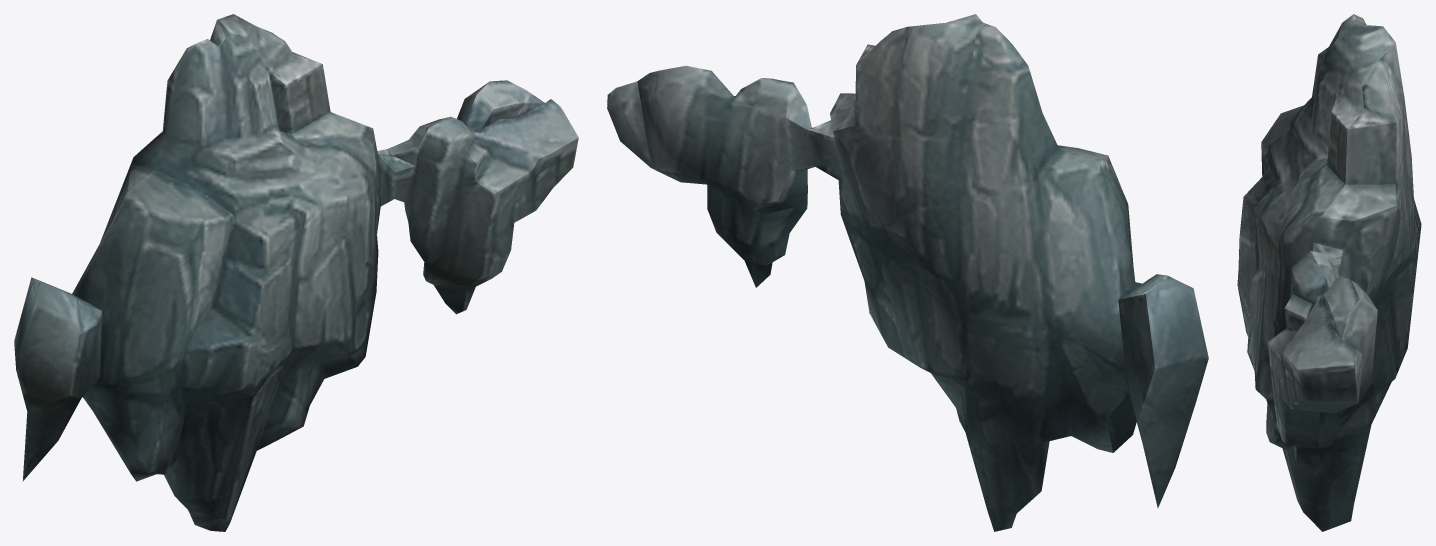
File: W3_HD_GongHuiBoss_dashi03_07.fbx
The picture shows the model from 3 angles, left to right: view 1: azimuth 30°, elevation 25°; view 2: azimuth 150°, elevation 25°; view 3: azimuth 270°, elevation 25°; orthographic projection. The views are drawn at different scales.
Parts seen in each view (by area): view 1: W3_HD_GongHuiBoss_dashi03_07; view 2: W3_HD_GongHuiBoss_dashi03_07; view 3: W3_HD_GongHuiBoss_dashi03_07.
Boxes of the visible parts, box(x1,y1,x2,y2) form: W3_HD_GongHuiBoss_dashi03_07: box(14, 14, 578, 531); W3_HD_GongHuiBoss_dashi03_07: box(607, 14, 1208, 531); W3_HD_GongHuiBoss_dashi03_07: box(1237, 14, 1421, 531).
Size of the model in its own units: 59.98 by 50.2 by 16.23.
